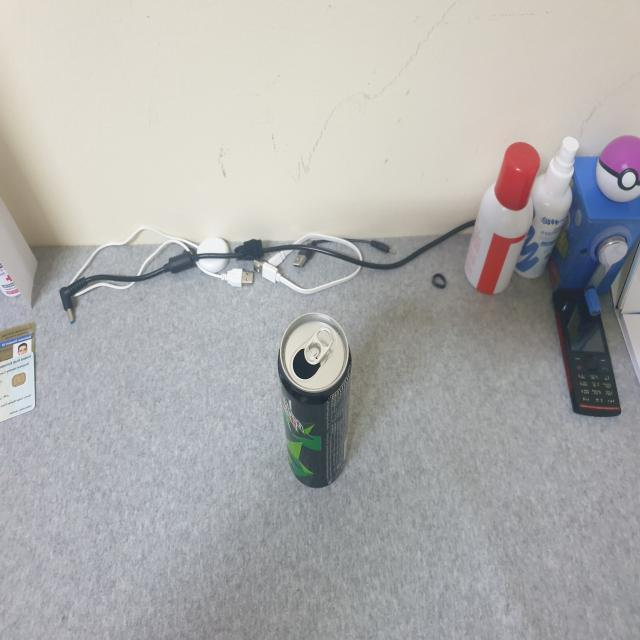can: (270, 307, 358, 498)
